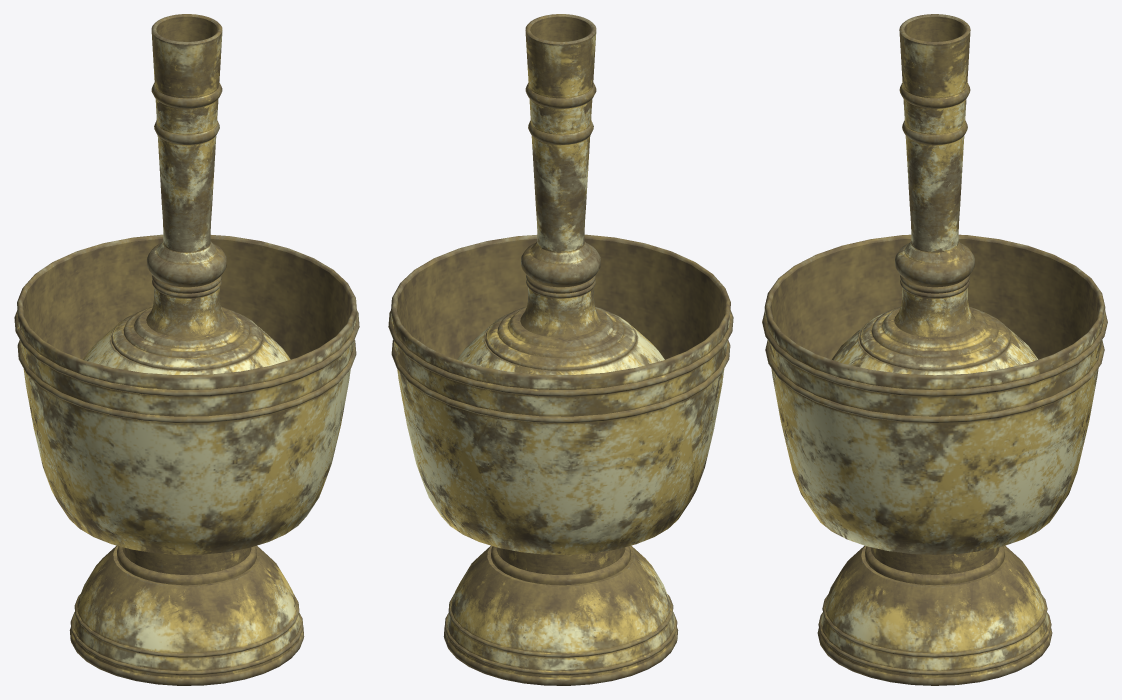
Rendered from jar.fbx.
The picture shows the model from 3 angles, left to right: view 1: azimuth 30°, elevation 25°; view 2: azimuth 150°, elevation 25°; view 3: azimuth 270°, elevation 25°; orthographic projection.
Parts seen in each view (by area): view 1: Circle, Cylinder; view 2: Circle, Cylinder; view 3: Circle, Cylinder.
Boxes of the visible parts, x1=… form: Circle: x1=14, y1=234, x2=359, y2=685; Cylinder: x1=83, y1=14, x2=290, y2=374; Circle: x1=388, y1=234, x2=733, y2=685; Cylinder: x1=457, y1=14, x2=664, y2=374; Circle: x1=762, y1=234, x2=1107, y2=685; Cylinder: x1=832, y1=14, x2=1037, y2=375.
Size of the model in its own units: 9.97 by 19.36 by 9.97.
1 material, 1 textured.
